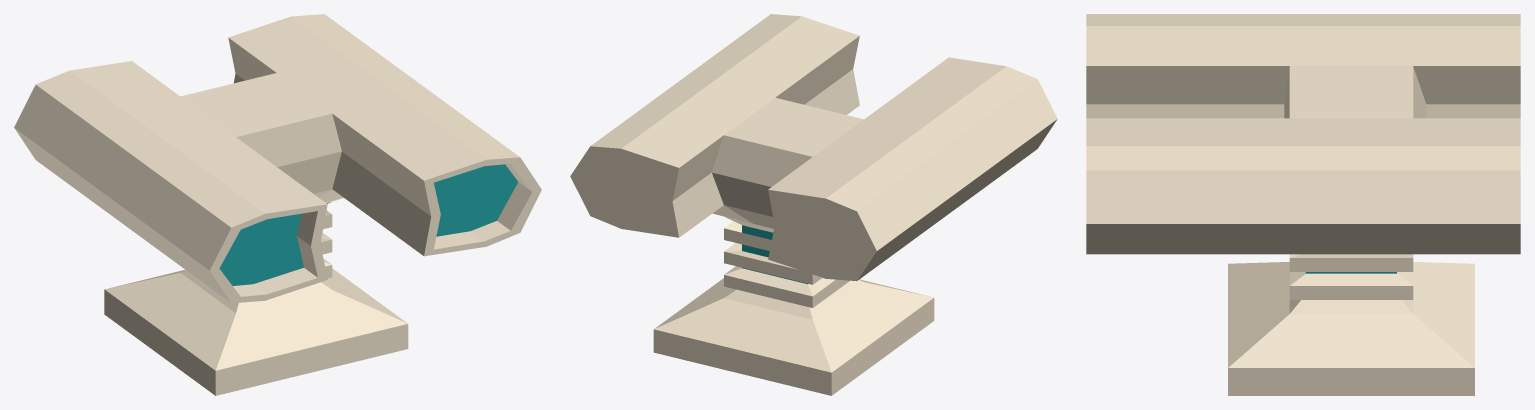
The model's file is turret.fbx.
The picture shows the model from 3 angles, left to right: view 1: azimuth 30°, elevation 25°; view 2: azimuth 150°, elevation 25°; view 3: azimuth 270°, elevation 25°; orthographic projection. The views are drawn at different scales.
Parts seen in each view (by area): view 1: Cube; view 2: Cube; view 3: Cube.
Boxes of the visible parts, box(x1,y1,x2,y2) form: Cube: box(14, 14, 541, 395); Cube: box(570, 14, 1057, 395); Cube: box(1086, 14, 1520, 395).
Bounding box in the file's own units: 690 × 461 × 704.
